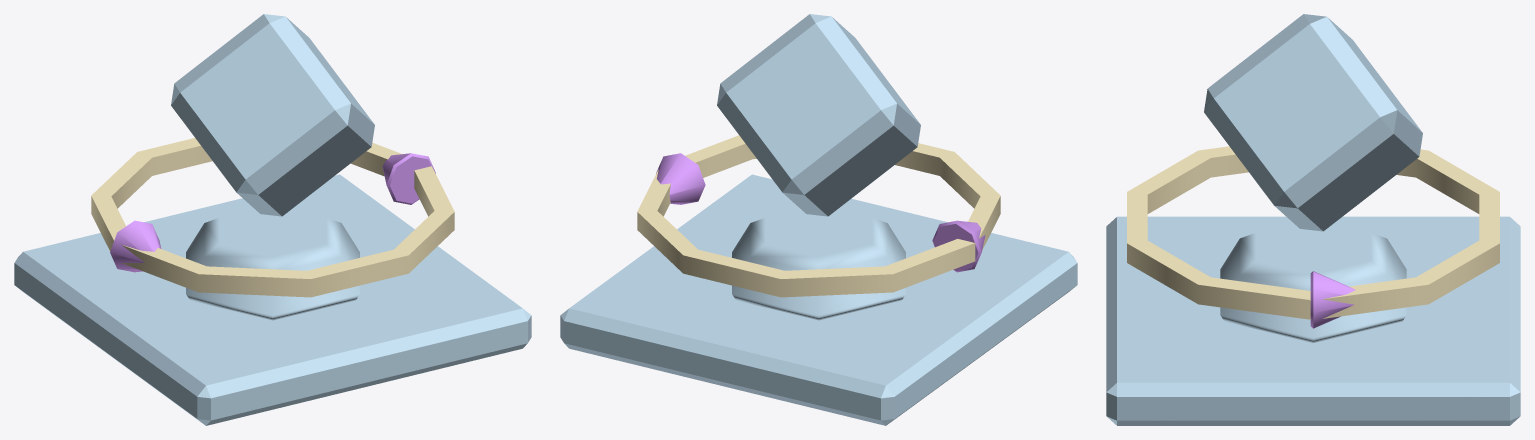
File: R4X_RewardReroll_LOD1.glb
3 renders of one model, left to right at view 1: azimuth 30°, elevation 25°; view 2: azimuth 150°, elevation 25°; view 3: azimuth 270°, elevation 25°, orthographic. The views are drawn at different scales.
Parts seen in each view (by area): view 1: R4X_RewardReroll_LOD1; view 2: R4X_RewardReroll_LOD1; view 3: R4X_RewardReroll_LOD1.
Part boxes in pixels (x1,y1,x2,y2): R4X_RewardReroll_LOD1: (14, 14, 531, 425); R4X_RewardReroll_LOD1: (560, 14, 1077, 425); R4X_RewardReroll_LOD1: (1106, 14, 1520, 425).
Size of the model in its own units: 0.52 by 0.4498 by 0.52.
